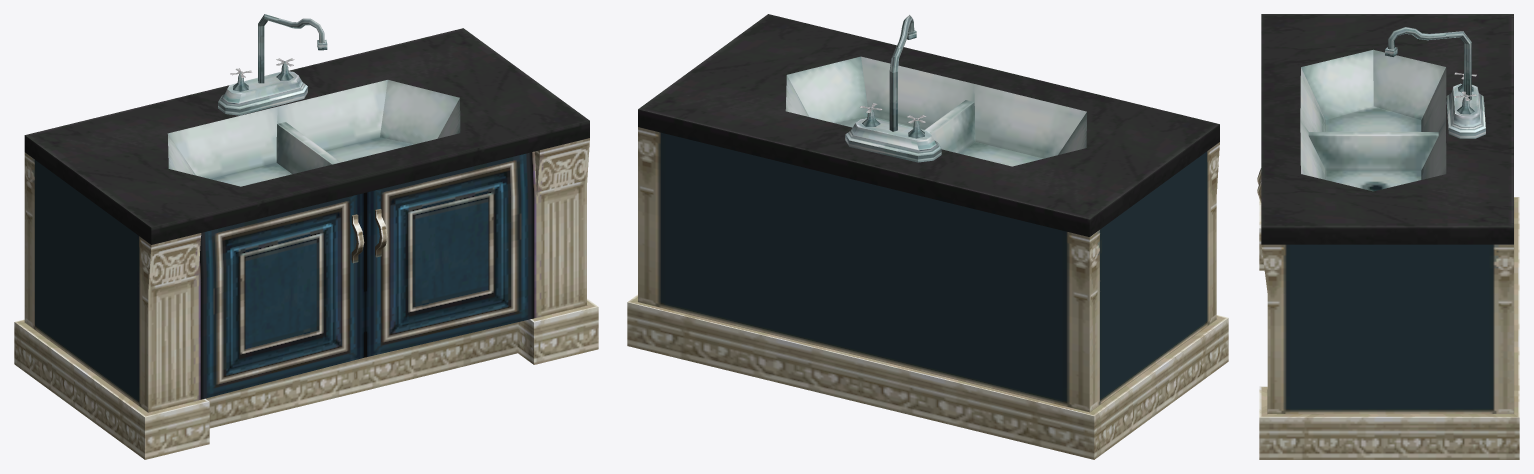
The model's file is furni_0201121_03.FBX.
3 renders of one model, left to right at view 1: azimuth 30°, elevation 25°; view 2: azimuth 150°, elevation 25°; view 3: azimuth 270°, elevation 25°, orthographic. The views are drawn at different scales.
Visible parts, largest first — view 1: furni_0201121_03; view 2: furni_0201121_03; view 3: furni_0201121_03.
Part boxes in pixels (<box>): furni_0201121_03: <box>14,14,598,459</box>; furni_0201121_03: <box>627,14,1228,459</box>; furni_0201121_03: <box>1257,14,1519,459</box>.
Bounding box in the file's own units: 165 × 115 × 83.15.
1 material, 1 textured.
